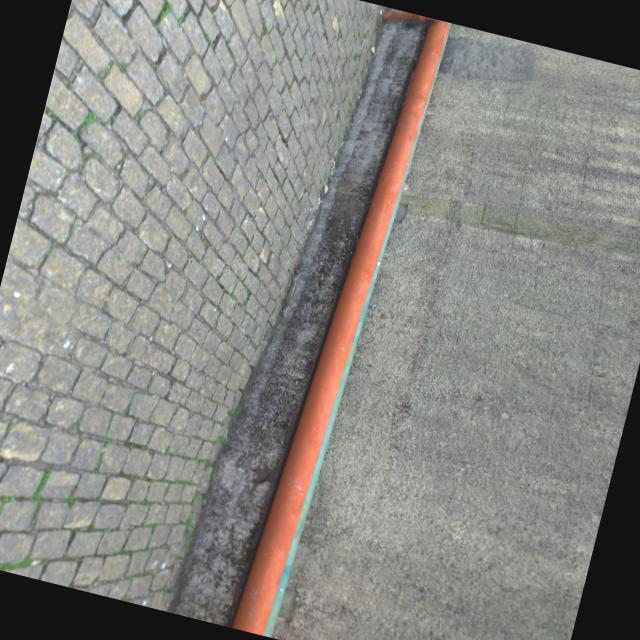gas: (232, 18, 449, 631), (385, 7, 434, 30)
